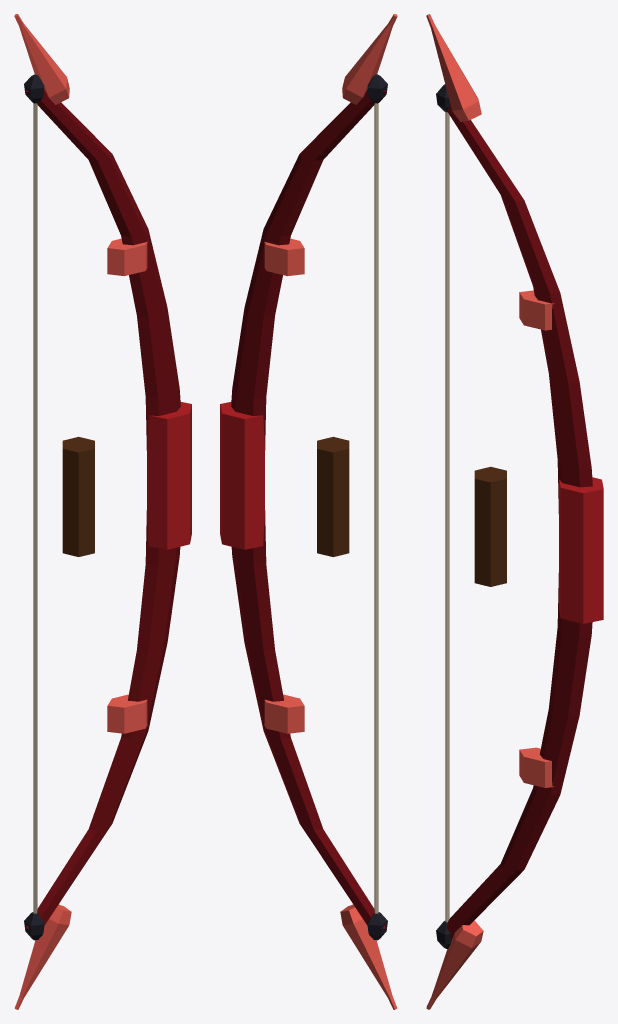
Rendered from wpn_bow_8.glb.
The picture shows the model from 3 angles, left to right: view 1: azimuth 30°, elevation 25°; view 2: azimuth 150°, elevation 25°; view 3: azimuth 330°, elevation 25°; orthographic projection.
Parts seen in each view (by area): view 1: wpn_bow_8; view 2: wpn_bow_8; view 3: wpn_bow_8.
Boxes of the visible parts, x1=… form: wpn_bow_8: x1=14, y1=14, x2=191, y2=1009; wpn_bow_8: x1=220, y1=14, x2=397, y2=1009; wpn_bow_8: x1=426, y1=14, x2=603, y2=1009.
Size of the model in its own units: 0.2839 by 1.52 by 0.052.
